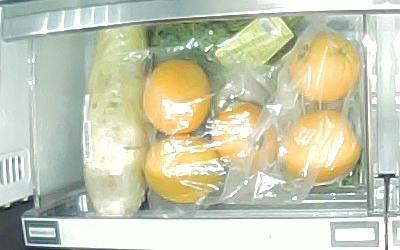orange_vinyl: (282, 110, 360, 182), (144, 136, 222, 203), (143, 59, 211, 135), (290, 32, 362, 103), (212, 102, 278, 169)
